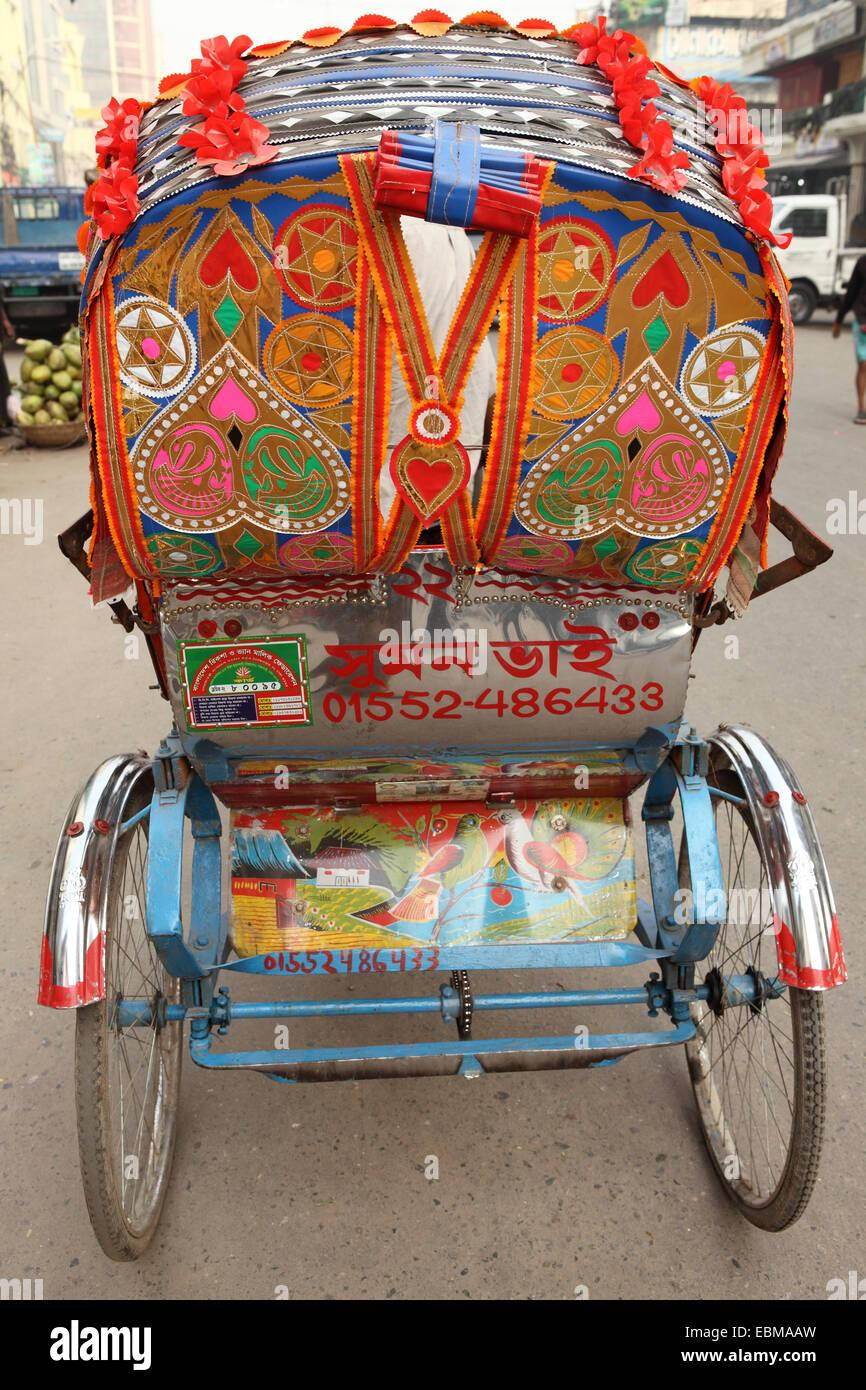Rickshaw: (3, 5, 836, 1265)
